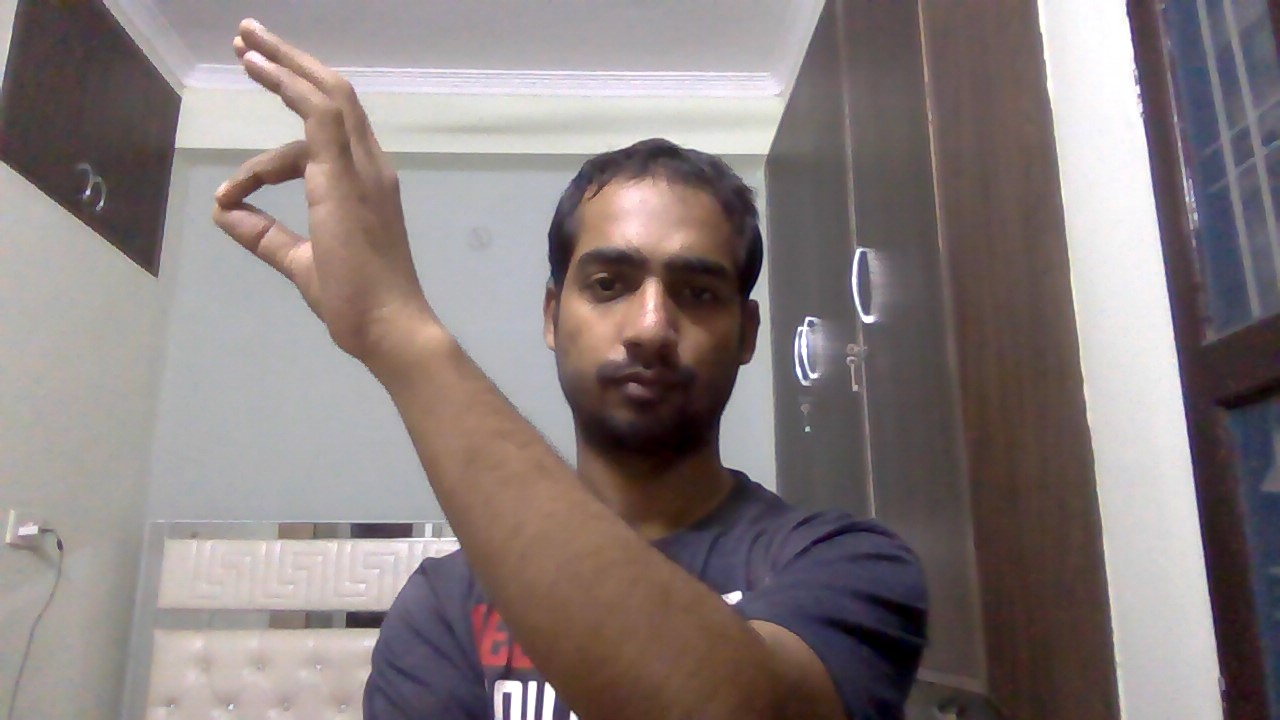Copy: (192, 9, 433, 362)
